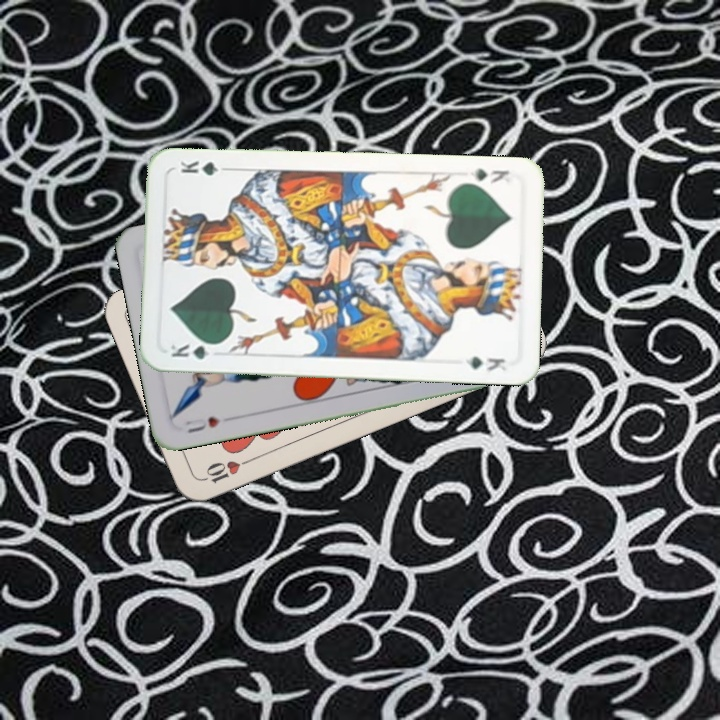GK: (166, 340, 224, 362), (464, 164, 513, 188)
H10: (198, 454, 255, 487)
HU: (181, 412, 223, 436)
